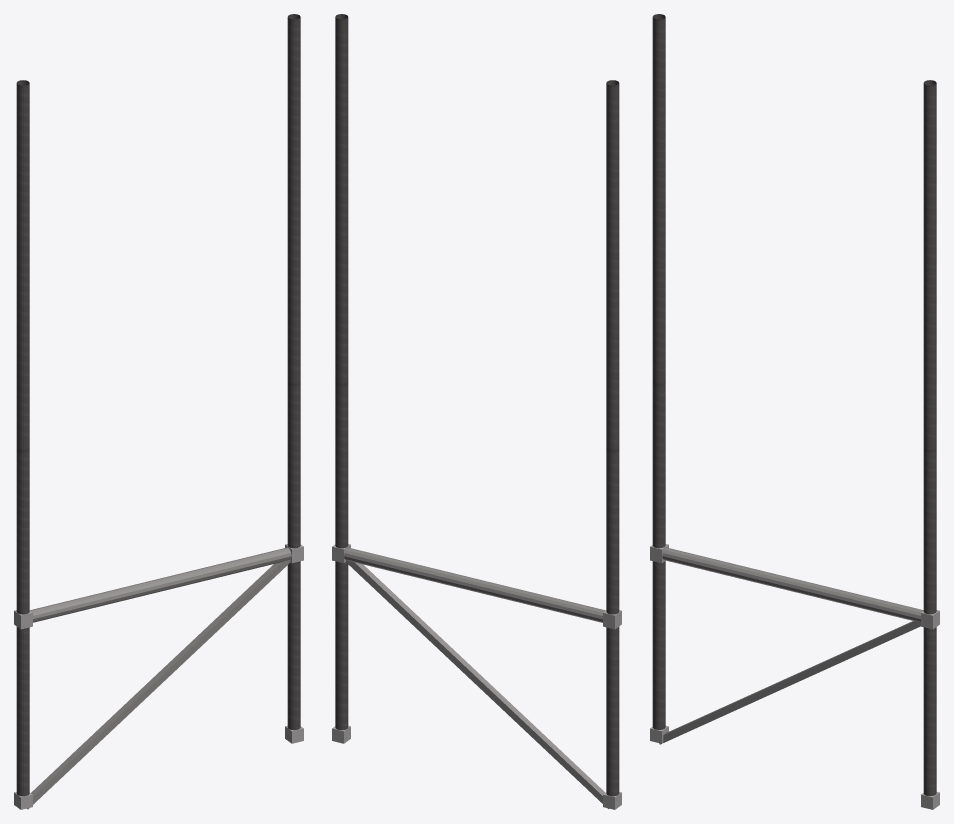
The model's file is catwalkpipe.fbx.
3 renders of one model, left to right at view 1: azimuth 30°, elevation 25°; view 2: azimuth 150°, elevation 25°; view 3: azimuth 330°, elevation 25°, orthographic.
Parts seen in each view (by area): view 1: catwalkpipe; view 2: catwalkpipe; view 3: catwalkpipe.
Boxes of the visible parts, box(x1,y1,x2,y2) form: catwalkpipe: box(14, 14, 303, 809); catwalkpipe: box(332, 14, 621, 809); catwalkpipe: box(650, 14, 939, 809).
Size of the model in its own units: 34.28 by 84.04 by 1.44.
